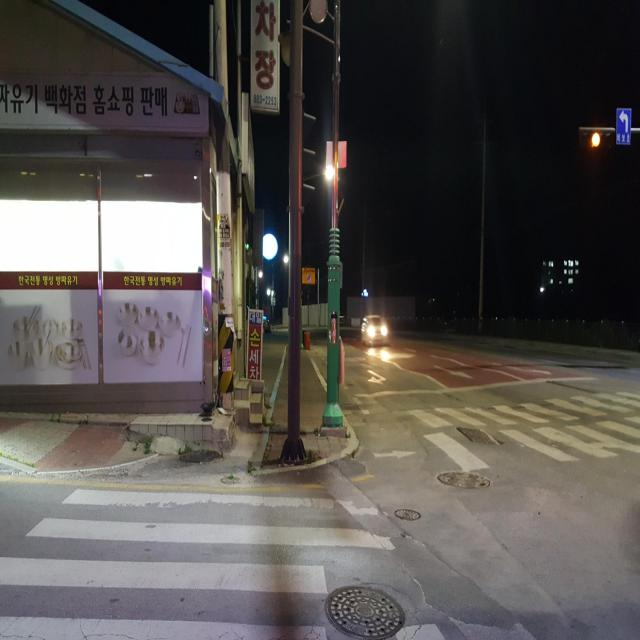횡단보도: (0, 484, 448, 640), (386, 386, 640, 472)
